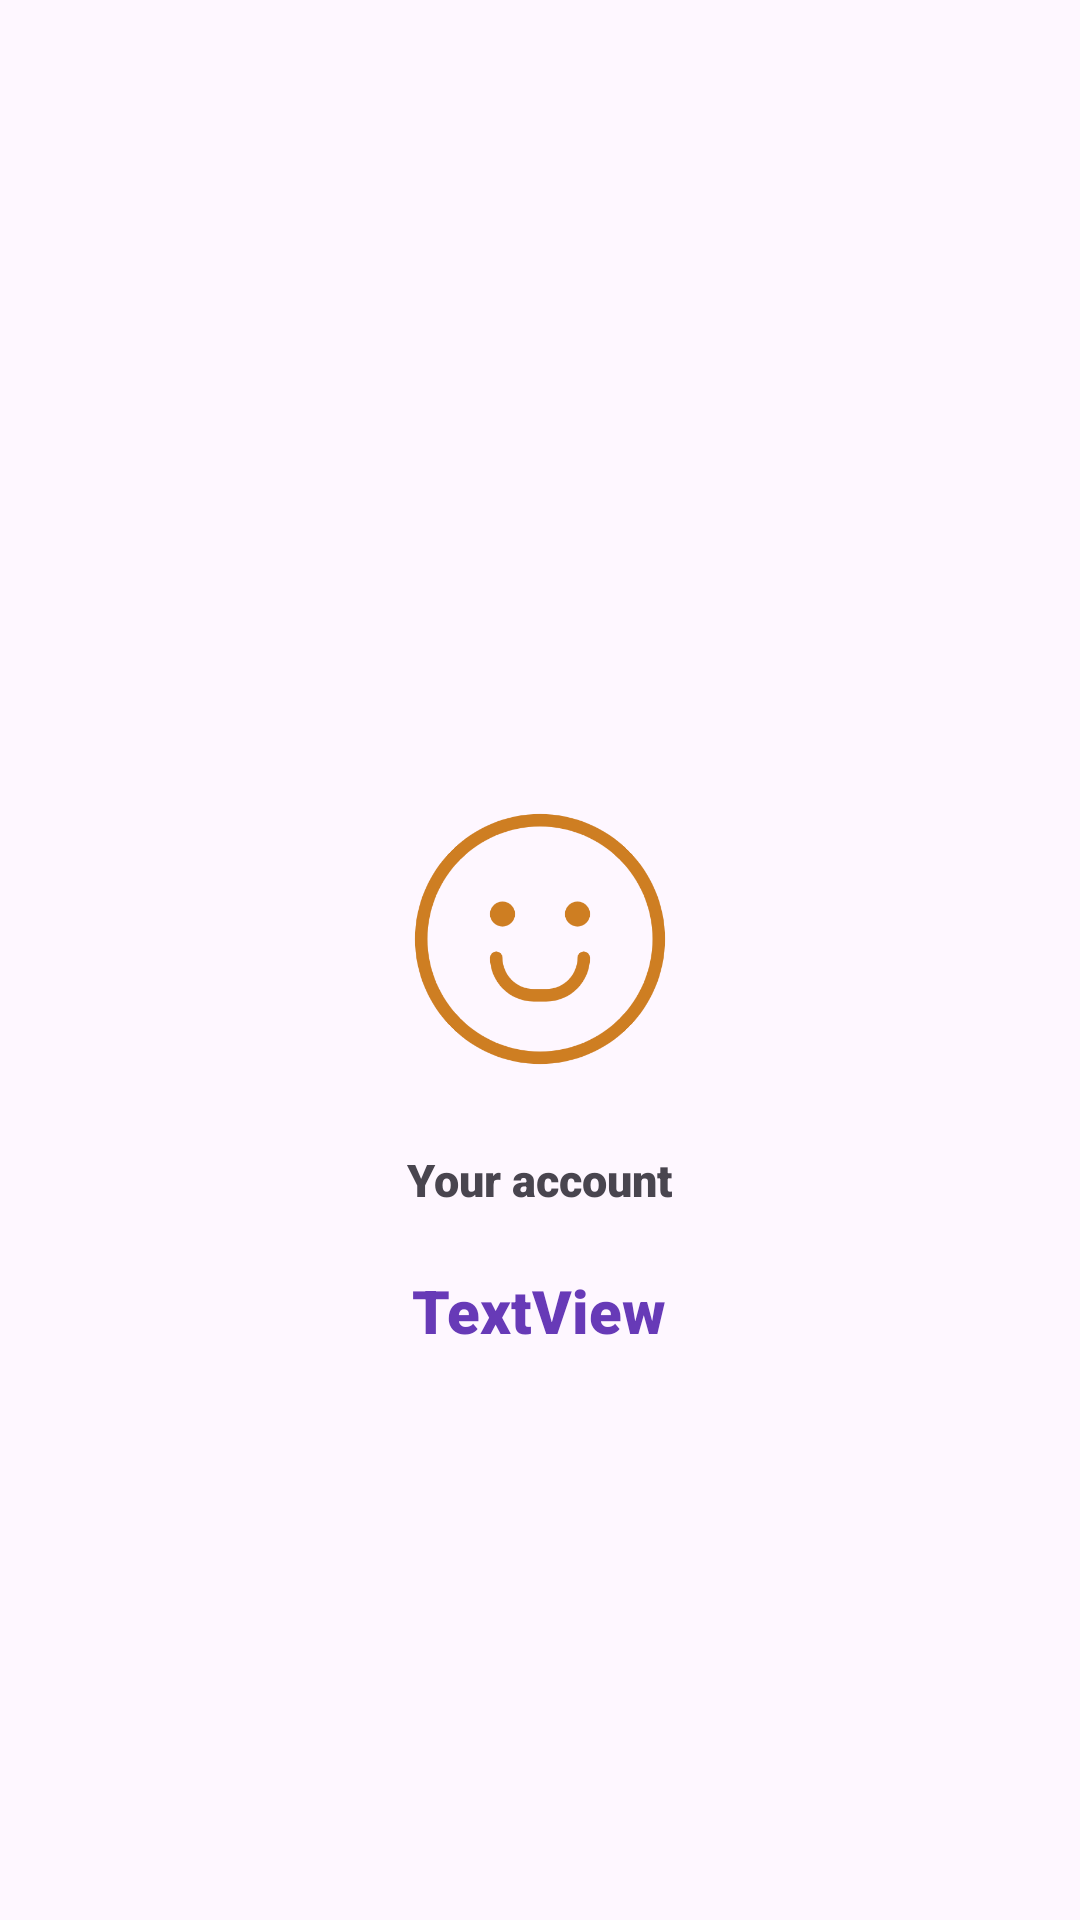

Where to tap for icons on this 1080x1920 app screen, as [x,y]:
smile: [540,939]
